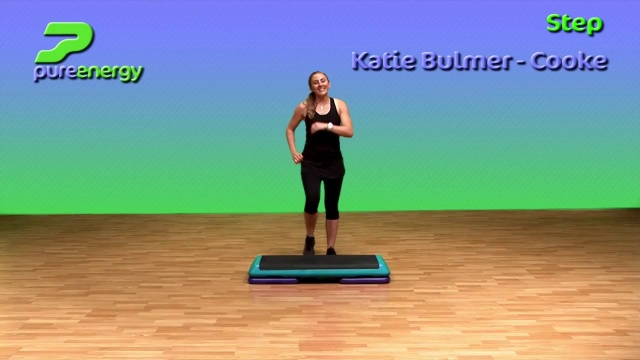person: (284, 65, 356, 261)
